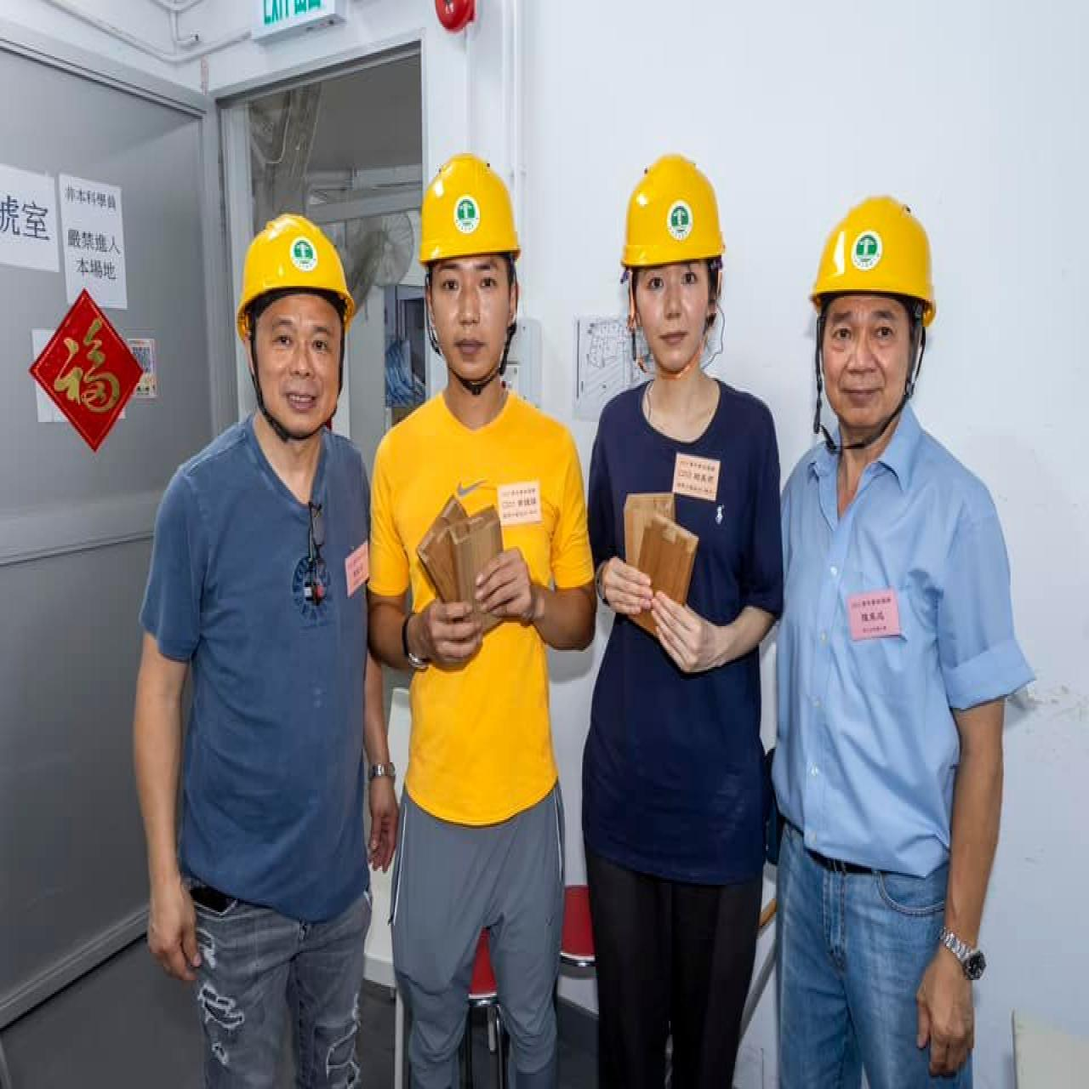NO_Safety_Vest: (150, 413, 369, 918), (780, 430, 1017, 884), (377, 383, 585, 817), (587, 383, 778, 821)
Person: (751, 173, 1032, 1089), (126, 207, 399, 1089), (367, 145, 604, 1089), (570, 125, 801, 1085)
